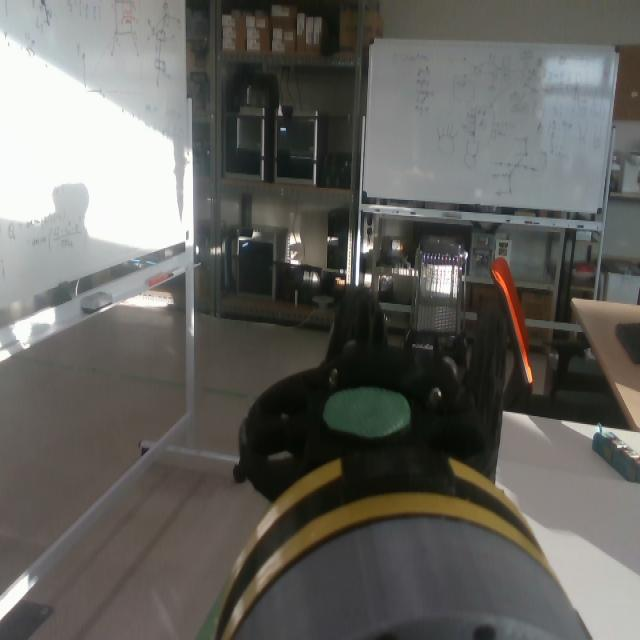body_connector: (228, 515, 588, 640)
connection: (214, 447, 592, 640)
leg: (210, 284, 547, 638)
leg_connector: (209, 448, 548, 636)
marker: (322, 385, 411, 434)
